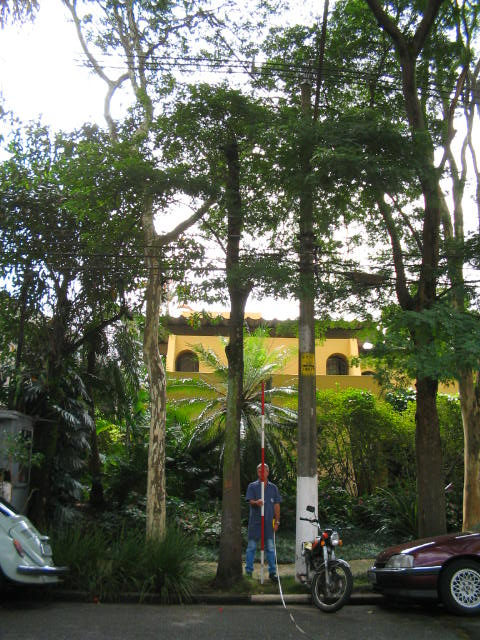crown: (48, 84, 445, 299)
stem: (204, 456, 254, 589)
stick: (256, 382, 269, 588)
tree: (44, 84, 453, 593)
